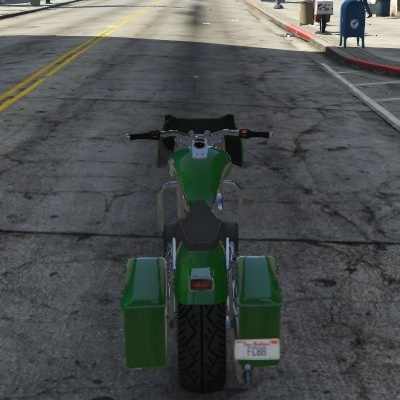off: (185, 260, 221, 298)
